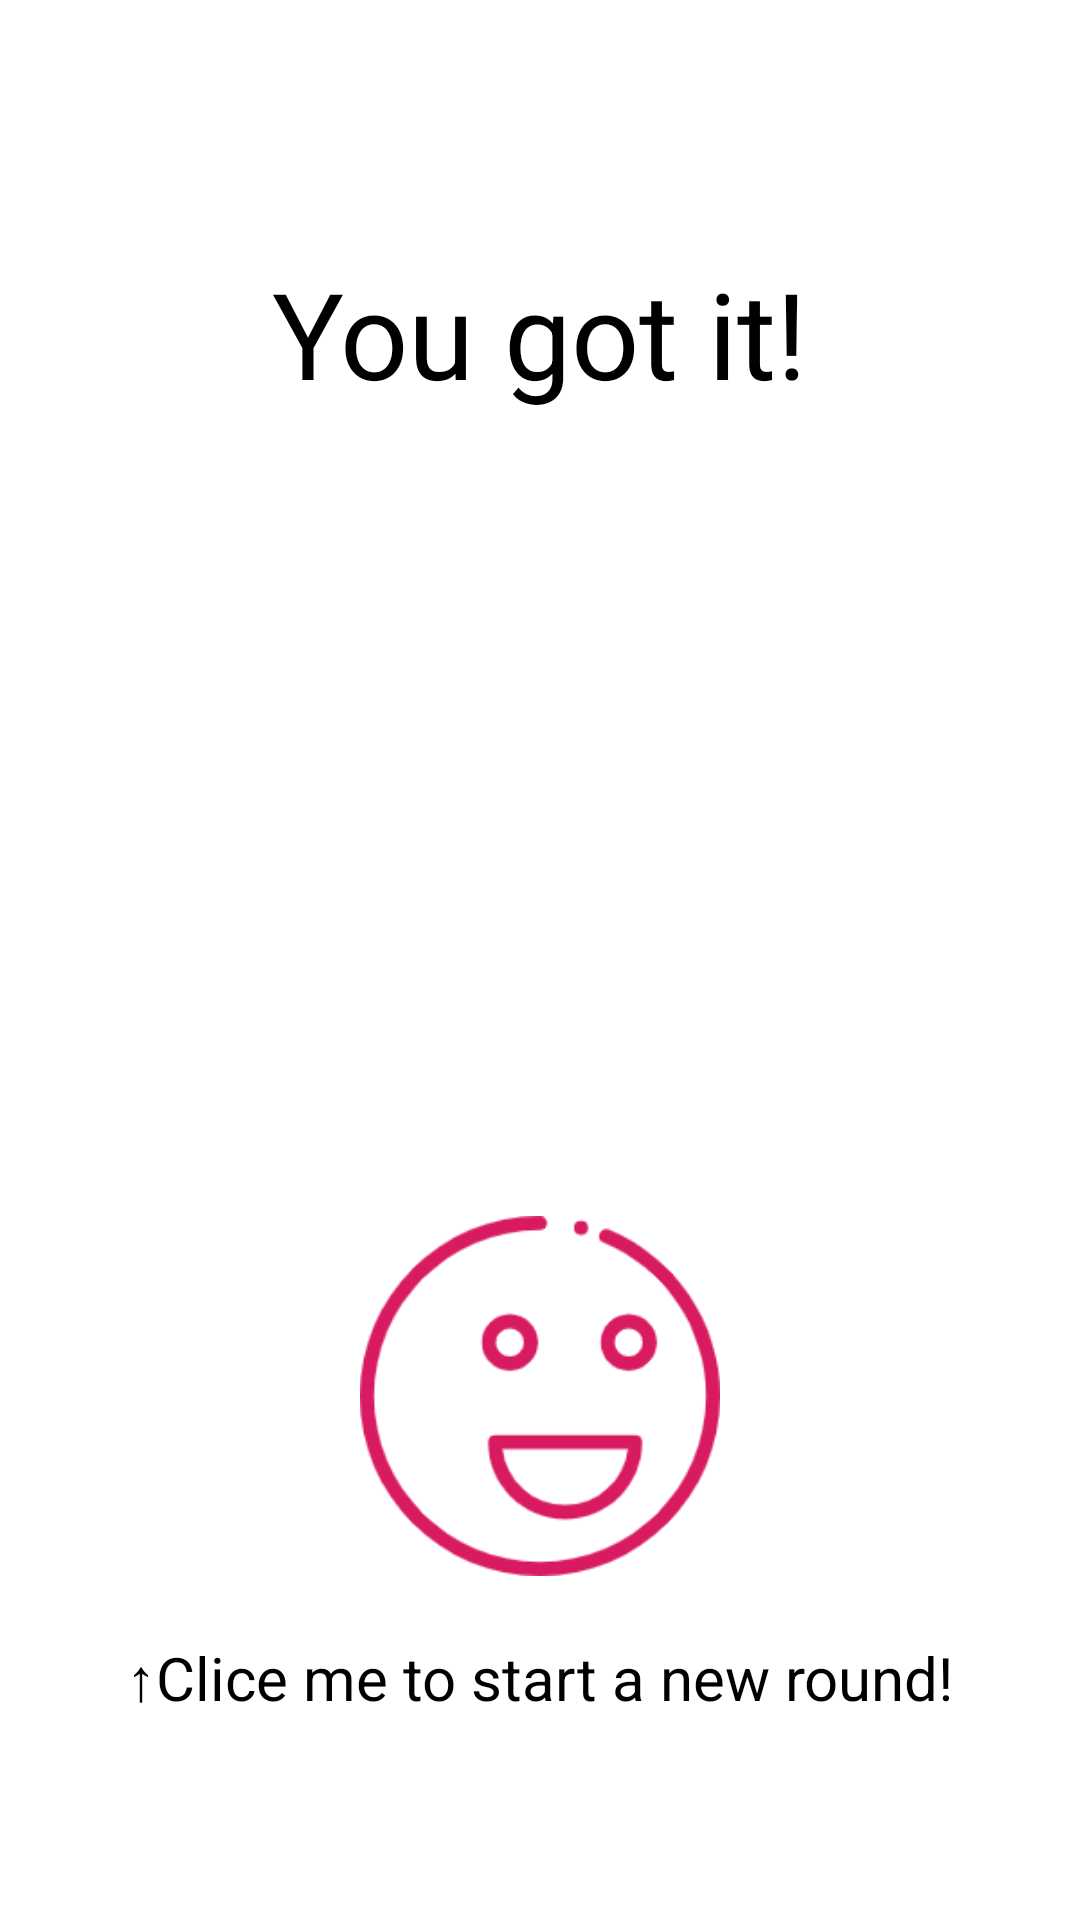

Icon click points for this 1080px x 1920px phone screenshot, format (x,y):
happy: (540,1396)
